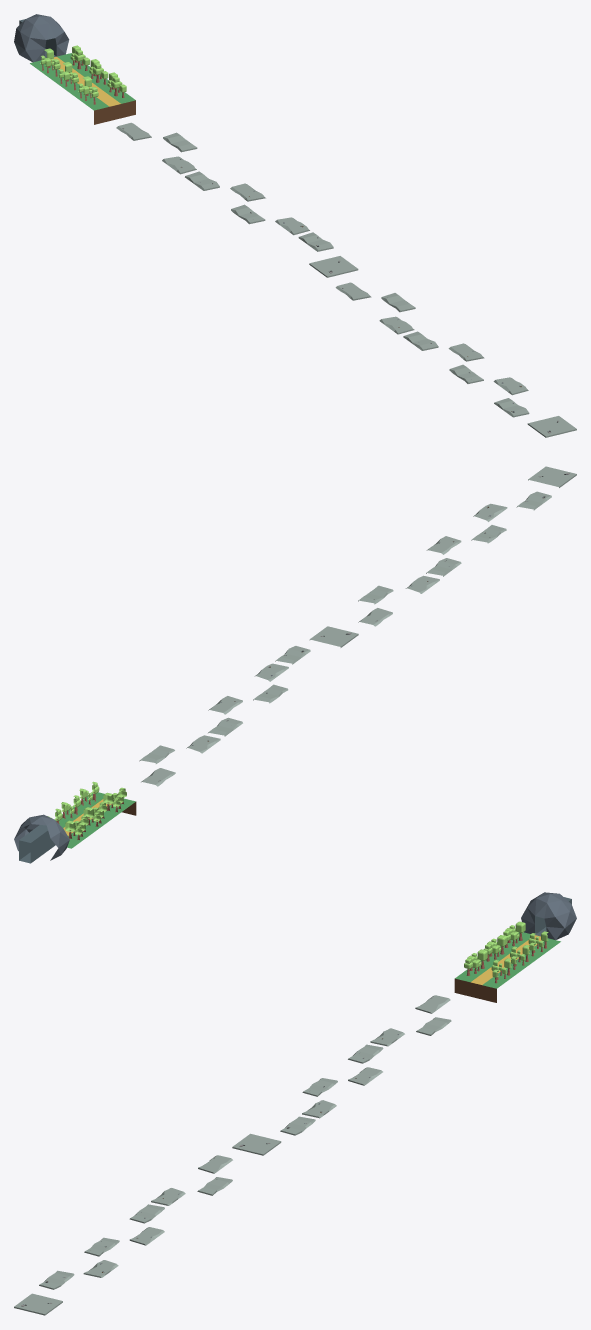
The model's file is road1 1.fbx.
3 views of the same model, one above another, from view 1: azimuth 30°, elevation 25°; view 2: azimuth 150°, elevation 25°; view 3: azimuth 330°, elevation 25° (orthographic).
Parts seen in each view (by area): view 1: Plane.002, Пещера, Платформа 2, Платформа 1, Платформа 2.001, Платформа 1.001, Деревья 2.001, Деревья3, Начало платформы, Начало платформы.001; view 2: Платформа 2.001, Платформа 2, Платформа 1, Платформа 1.001, Plane.002, Деревья 2.001, Пещера, Вход в пещеру, Деревья3, Начало платформы.001, Начало платформы; view 3: Plane.002, Пещера, Платформа 1, Платформа 1.001, Платформа 2, Платформа 2.001, Деревья 2.001, Деревья3, Начало платформы, Начало платформы.001.
Part boxes in pixels (bbox=[...]): Plane.002: bbox=[30, 53, 135, 124]; Пещера: bbox=[14, 14, 69, 62]; Платформа 2: bbox=[335, 282, 438, 350]; Платформа 1: bbox=[448, 343, 529, 417]; Платформа 2.001: bbox=[116, 122, 219, 190]; Платформа 1.001: bbox=[230, 183, 333, 251]; Деревья 2.001: bbox=[40, 48, 98, 104]; Деревья3: bbox=[70, 45, 126, 97]; Начало платформы: bbox=[527, 416, 576, 437]; Начало платформы.001: bbox=[309, 256, 358, 277]; Платформа 2.001: bbox=[139, 717, 242, 786]; Платформа 2: bbox=[358, 558, 461, 626]; Платформа 1: bbox=[426, 491, 551, 554]; Платформа 1.001: bbox=[208, 646, 310, 714]; Plane.002: bbox=[55, 792, 136, 848]; Деревья 2.001: bbox=[65, 787, 126, 839]; Пещера: bbox=[14, 814, 69, 860]; Вход в пещеру: bbox=[19, 825, 55, 863]; Деревья3: bbox=[48, 781, 99, 823]; Начало платформы.001: bbox=[309, 626, 358, 647]; Начало платформы: bbox=[528, 466, 576, 487]; Plane.002: bbox=[454, 932, 560, 1002]; Пещера: bbox=[521, 892, 576, 939]; Платформа 1: bbox=[39, 1227, 164, 1289]; Платформа 1.001: bbox=[280, 1067, 382, 1135]; Платформа 2: bbox=[129, 1155, 232, 1223]; Платформа 2.001: bbox=[348, 995, 451, 1063]; Деревья 2.001: bbox=[464, 921, 525, 975]; Деревья3: bbox=[491, 931, 548, 983]; Начало платформы: bbox=[14, 1293, 62, 1315]; Начало платформы.001: bbox=[232, 1133, 281, 1155].
Size of the model in its own units: 14782 by 15789 by 313502.
